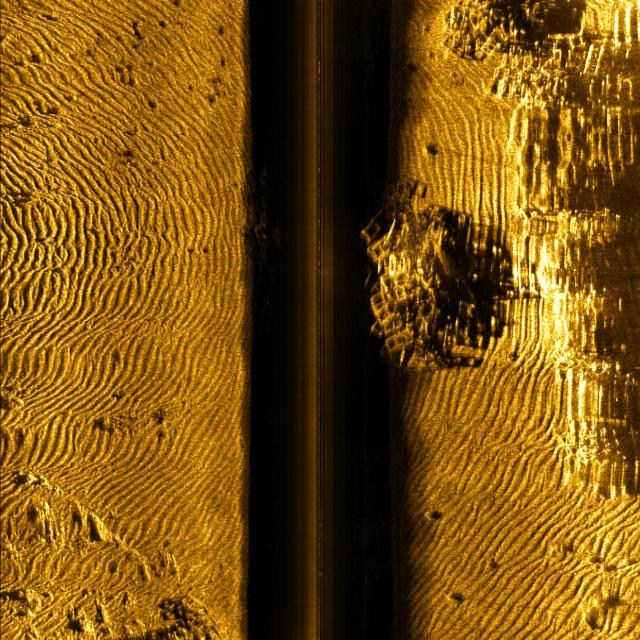artificial reef: (364, 172, 475, 360), (440, 0, 586, 105), (251, 162, 296, 314)
